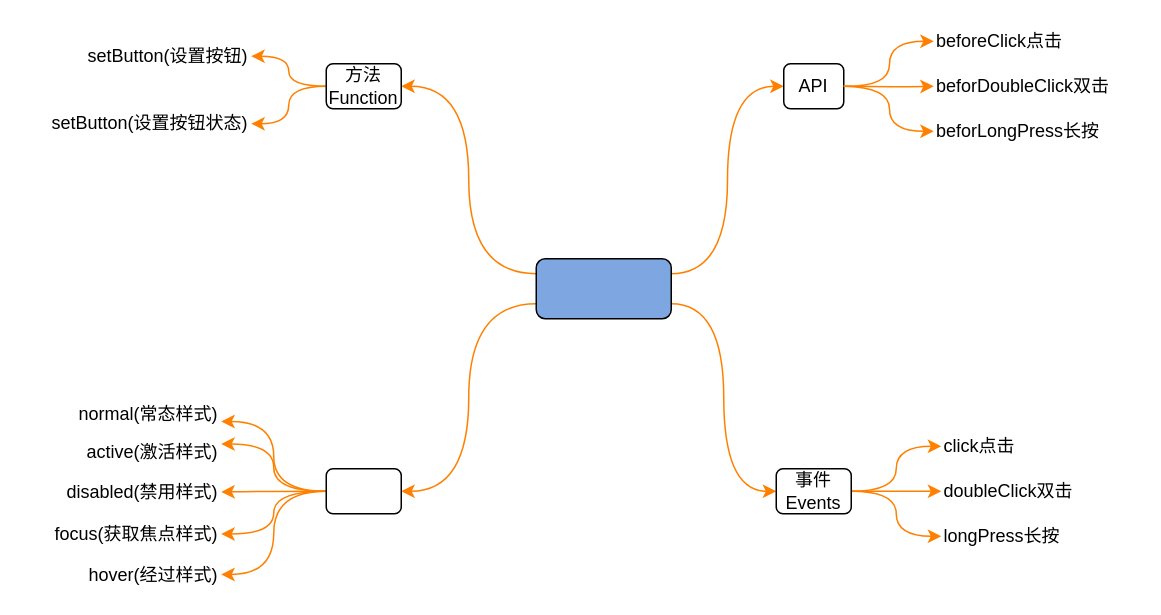
The diagram is 1161 pixels wide and 615 high, and some of its shapes have lost their labels. Each missing label, with the box of its shape:
Button: (535, 257, 671, 319)
样式Styles: (325, 467, 401, 514)
